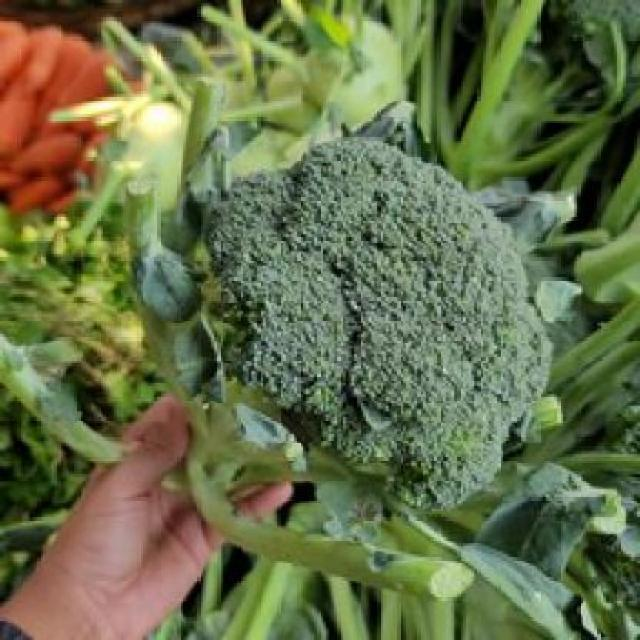broccoli: (172, 130, 552, 539)
